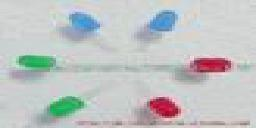LED: (11, 53, 78, 80), (67, 10, 107, 41), (191, 55, 230, 77), (45, 96, 87, 116), (145, 9, 173, 37), (146, 96, 185, 116)
